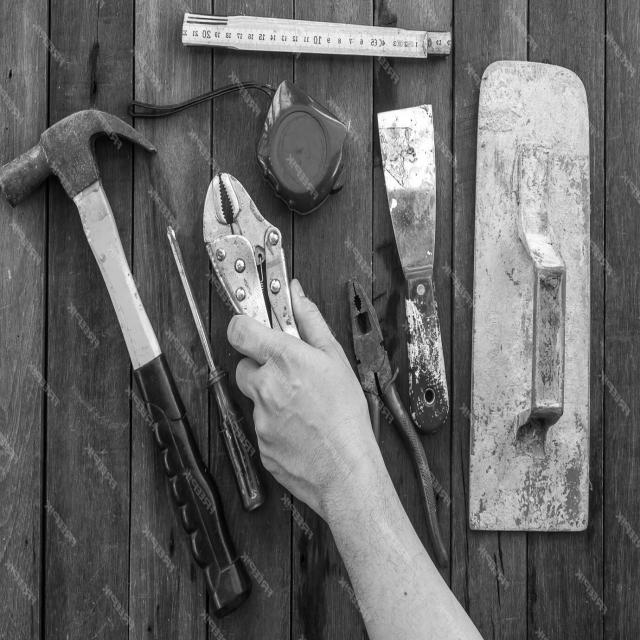hammer: (0, 94, 257, 628)
measuring_tape: (113, 54, 367, 245)
pliers: (340, 278, 449, 570)
screwdriver: (146, 204, 272, 529)
trowel: (456, 50, 605, 552), (370, 92, 453, 433)
wrench: (191, 173, 307, 345)
